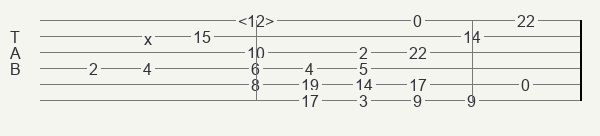0: (413, 12, 426, 28), (521, 76, 534, 92)
10: (247, 44, 269, 60)
14: (355, 76, 377, 92), (463, 28, 485, 44)
15: (193, 28, 215, 44)
17: (301, 92, 323, 108), (409, 76, 431, 92)
19: (301, 76, 323, 92)
2: (89, 60, 102, 76), (359, 44, 372, 60)
22: (409, 44, 431, 60), (517, 12, 539, 28)
3: (359, 92, 372, 108)
4: (143, 60, 156, 76), (305, 60, 318, 76)
5: (359, 60, 372, 76)
6: (251, 60, 264, 76)
8: (251, 76, 264, 92)
9: (413, 92, 426, 108), (467, 92, 480, 108)
harmonic: (238, 12, 278, 28)
x: (144, 30, 156, 43)
